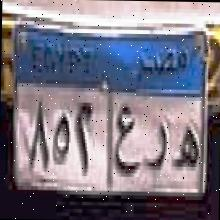2: (74, 95, 94, 177)
5: (50, 106, 72, 173)
8: (26, 92, 50, 174)
ain: (113, 99, 141, 181)
haa: (170, 123, 200, 180)
raa: (140, 110, 168, 180)
